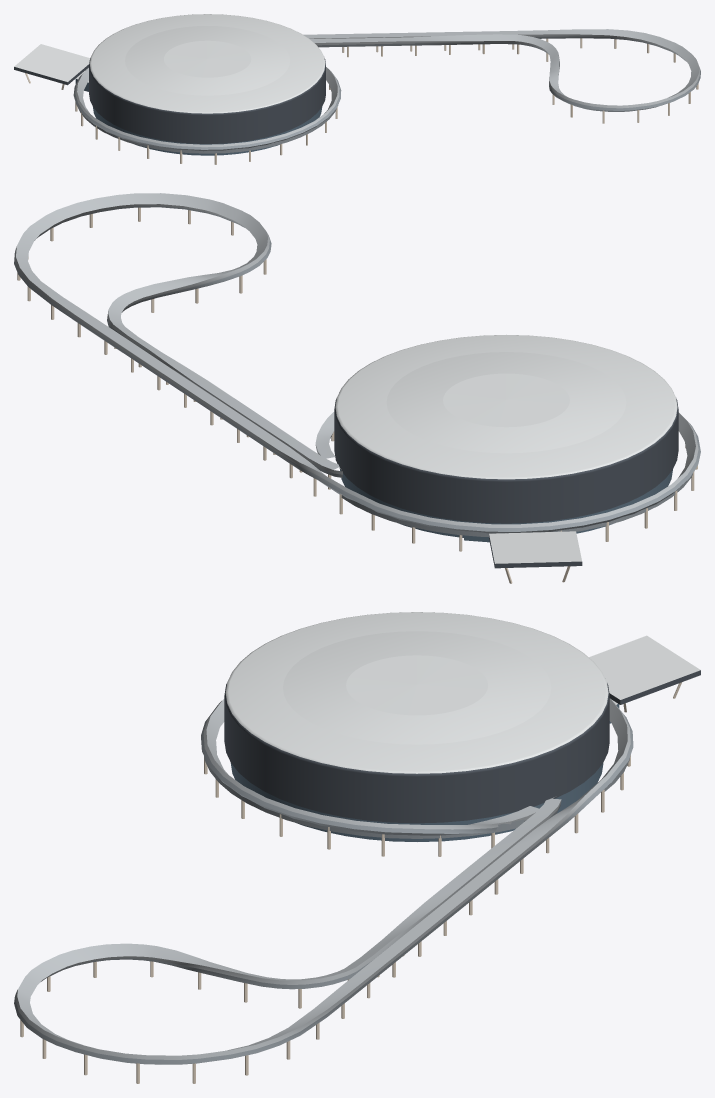
Rendered from wdw-epcot-test-track.glb.
The picture shows the model from 3 angles, top to bottom: view 1: azimuth 30°, elevation 25°; view 2: azimuth 150°, elevation 25°; view 3: azimuth 270°, elevation 25°; orthographic projection. The views are drawn at different scales.
Visible parts, largest first — view 1: Test Track; view 2: Test Track; view 3: Test Track.
Boxes of the visible parts, x1,y1,x2,y2 form: Test Track: (14,14,700,164); Test Track: (14,193,700,583); Test Track: (14,612,700,1083).
Bounding box in the file's own units: 250 × 23 × 174.
